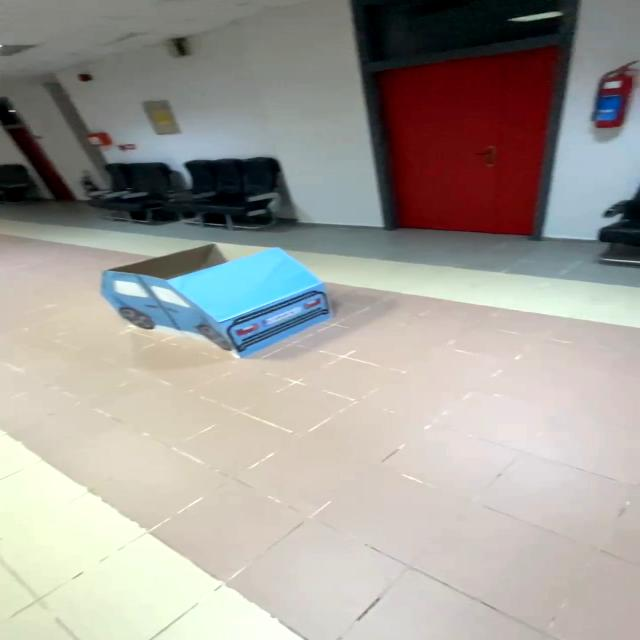blue_car: (57, 234, 368, 372)
